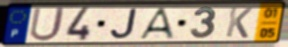3: (189, 6, 218, 41)
4: (64, 5, 93, 43)
A: (137, 7, 177, 41)
J: (109, 7, 139, 40)
K: (223, 6, 255, 39)
U: (28, 6, 68, 43)
